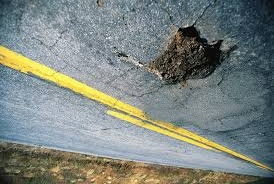pothole: (151, 20, 232, 96)
